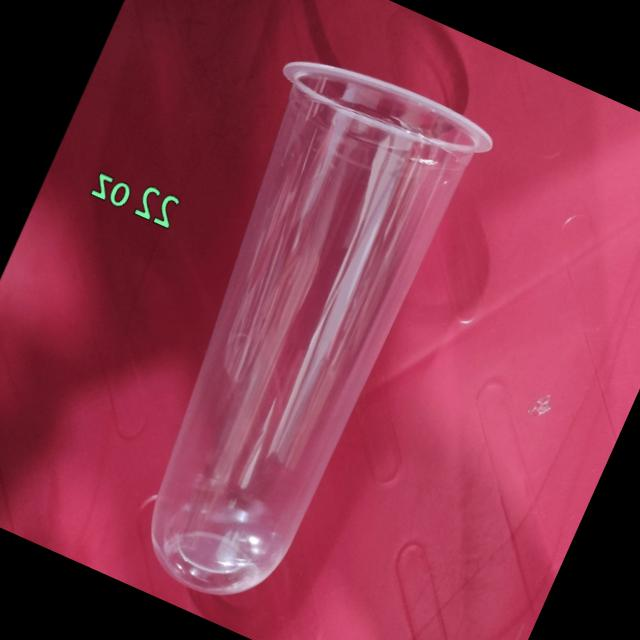GelasPlastik: (74, 38, 502, 627)
